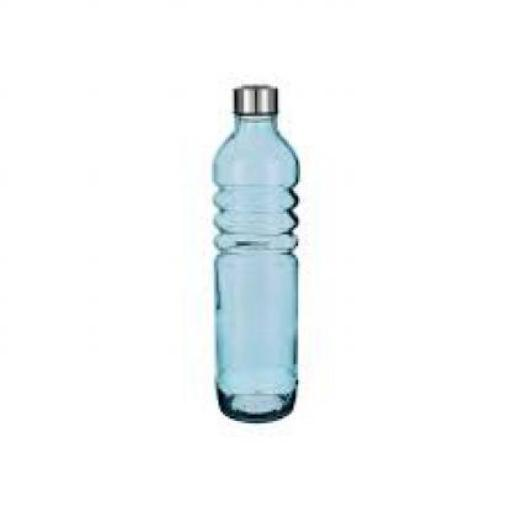plastic: (209, 82, 298, 421), (232, 84, 274, 114)
